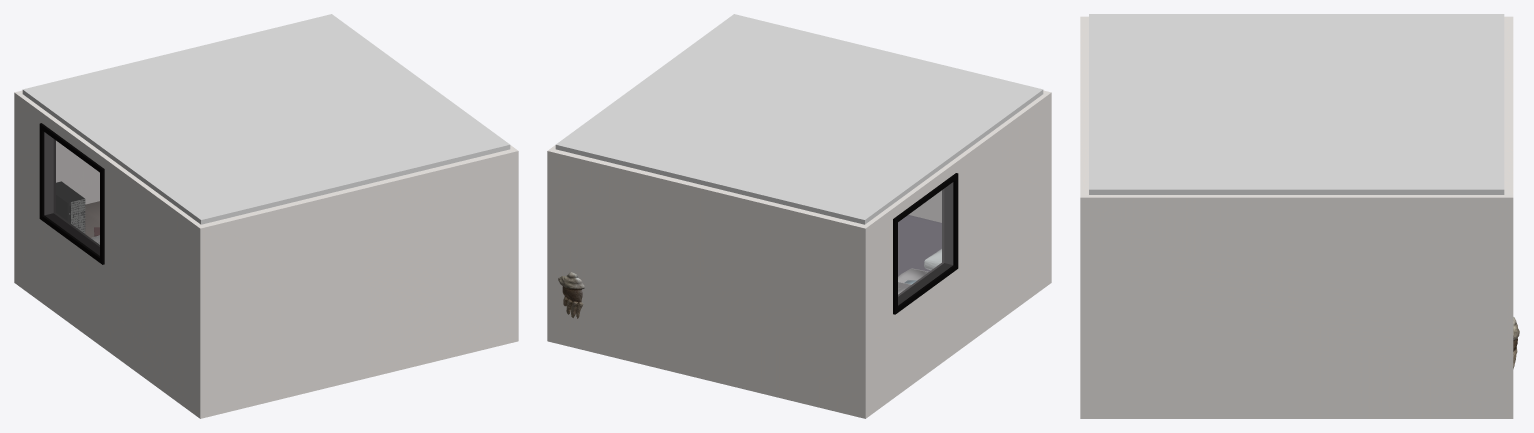
The model's file is arin_room-transformed.glb.
3 views of the same model, side by side, from view 1: azimuth 30°, elevation 25°; view 2: azimuth 150°, elevation 25°; view 3: azimuth 270°, elevation 25° (orthographic). The views are drawn at different scales.
Parts seen in each view (by area): view 1: Plane.006, Cylinder, Window Glass, Plane.002, keyboard_back, table; view 2: Plane.006, Cylinder, Plane.002, Window Glass, JellyCat; view 3: Plane.006, Cylinder.
Part boxes in pixels (x1,y1,x2,y2): Plane.006: (14, 90, 518, 418); Cylinder: (22, 14, 510, 224); Window Glass: (44, 132, 99, 255); Plane.002: (39, 123, 104, 264); keyboard_back: (56, 181, 84, 231); table: (85, 201, 99, 237); Plane.006: (547, 90, 1051, 418); Cylinder: (555, 14, 1043, 224); Plane.002: (893, 173, 958, 314); Window Glass: (898, 182, 952, 304); JellyCat: (558, 272, 584, 318); Plane.006: (1080, 16, 1513, 418); Cylinder: (1089, 14, 1504, 194).
Size of the model in its own units: 7.05 by 4.1 by 7.19.
Materials: 9 (9 with a texture image).
